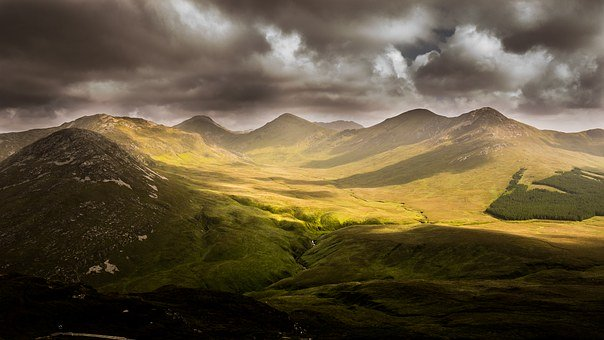field: (14, 108, 600, 339)
mountain: (14, 109, 600, 340)
sky: (2, 2, 602, 122)
